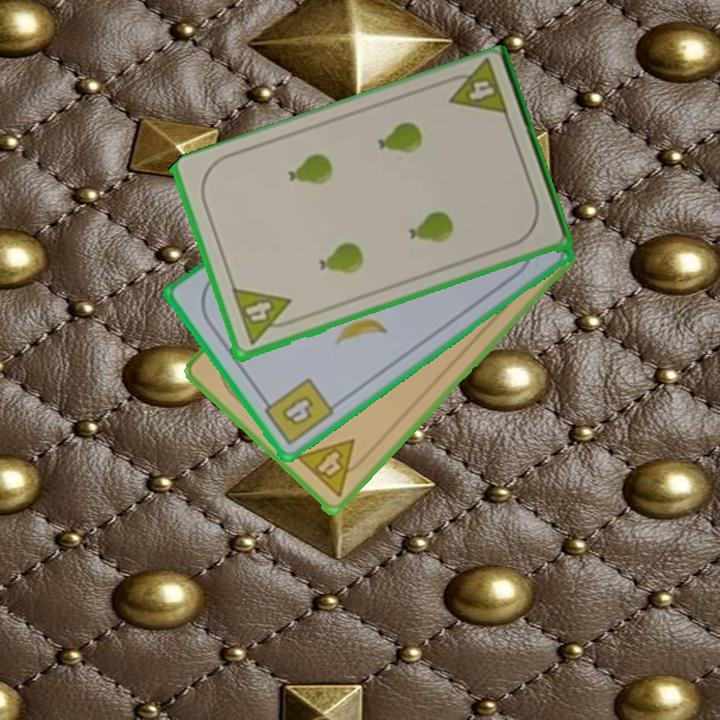4b: (256, 374, 337, 449)
4p: (292, 435, 372, 500), (438, 58, 511, 122), (228, 285, 299, 349)
